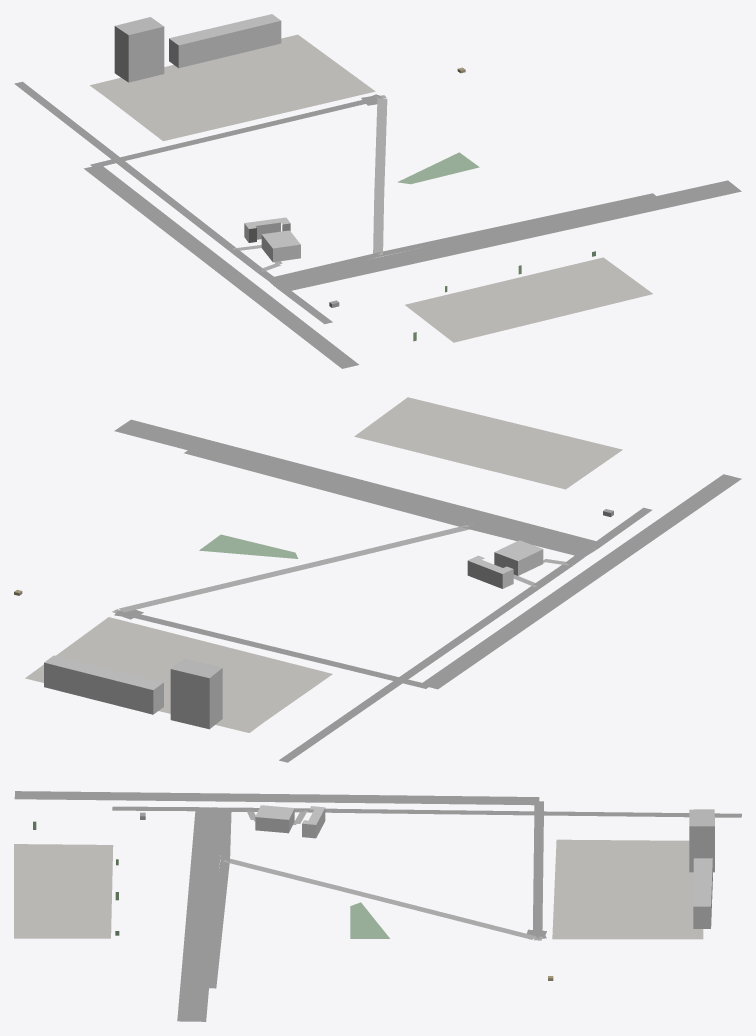
The picture shows the model from 3 angles, top to bottom: view 1: azimuth 30°, elevation 25°; view 2: azimuth 150°, elevation 25°; view 3: azimuth 270°, elevation 25°; orthographic projection. The views are drawn at different scales.
Size of the model in its own units: 393 by 37.36 by 528.
